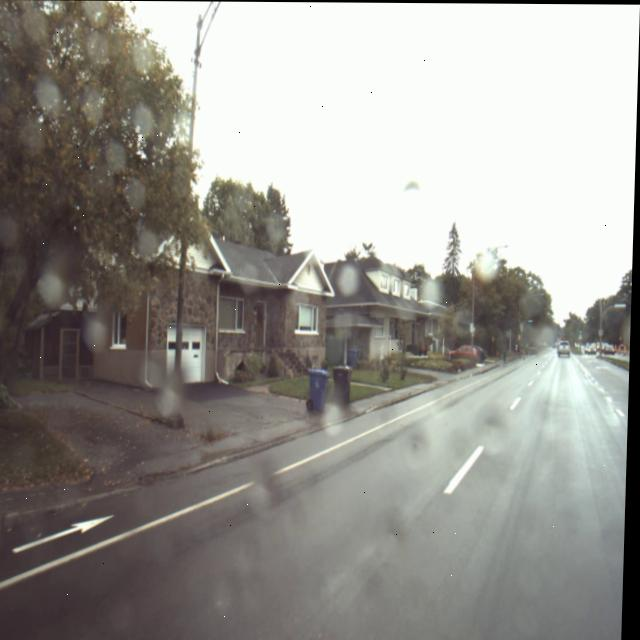car: (452, 344, 489, 363), (560, 339, 573, 357), (606, 343, 617, 353), (589, 343, 598, 355)
